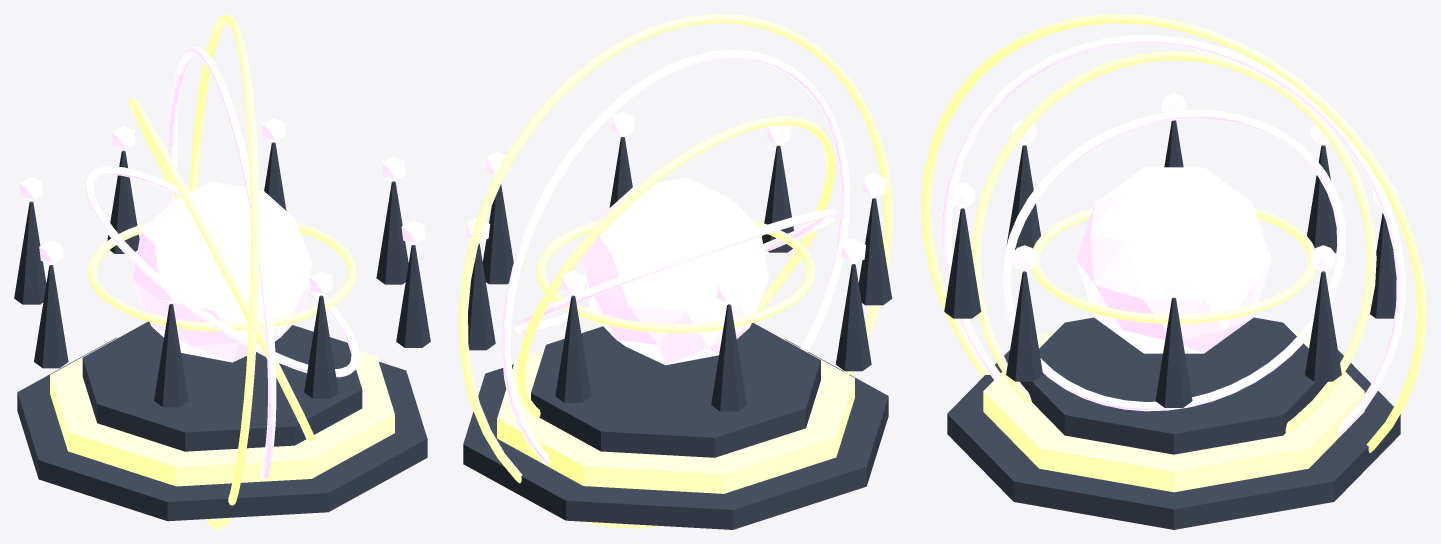
Rendered from gpu-blender-v8.glb.
3 renders of one model, left to right at view 1: azimuth 30°, elevation 25°; view 2: azimuth 150°, elevation 25°; view 3: azimuth 270°, elevation 25°, orthographic. The views are drawn at different scales.
Visible parts, largest first — view 1: Cylinder.002, Cylinder, SovereignCore_cron-rhythm-studio, Cylinder.001, Torus.004, Torus.003, Torus.001, Torus.002, Torus, Cone.005, Cone.004, Cone.006 (+5 smaller); view 2: Cylinder.002, SovereignCore_cron-rhythm-studio, Cylinder, Cylinder.001, Torus.004, Torus.003, Torus.002, Torus.001, Torus, Cone.004, Cone.003, Cone.002 (+5 smaller); view 3: SovereignCore_cron-rhythm-studio, Cylinder.002, Cylinder, Cylinder.001, Torus.004, Torus.003, Torus.002, Torus.001, Torus, Cone.006, Cone.001, Cone.007 (+5 smaller).
Boxes of the visible parts, box(x1,y1,x2,y2) form: Cylinder.002: box(82, 321, 362, 451); Cylinder: box(17, 337, 427, 521); SovereignCore_cron-rhythm-studio: box(133, 181, 311, 362); Cylinder.001: box(50, 329, 394, 486); Torus.004: box(189, 14, 259, 529); Torus.003: box(168, 46, 276, 479); Torus.001: box(85, 166, 359, 377); Torus.002: box(129, 98, 314, 440); Torus: box(88, 222, 356, 331); Cone.005: box(154, 304, 188, 407); Cone.004: box(34, 265, 68, 368); Cone.006: box(304, 295, 338, 398); Cylinder.002: box(531, 323, 820, 457); SovereignCore_cron-rhythm-studio: box(583, 177, 768, 365); Cylinder: box(463, 339, 888, 529); Cylinder.001: box(497, 330, 854, 493); Torus.004: box(459, 14, 892, 528); Torus.003: box(501, 49, 850, 464); Torus.002: box(516, 116, 835, 418); Torus.001: box(514, 209, 837, 333); Torus: box(536, 219, 815, 332); Cone.004: box(835, 264, 871, 371); Cone.003: box(711, 304, 746, 411); Cone.002: box(555, 295, 591, 402); SovereignCore_cron-rhythm-studio: box(1076, 167, 1271, 353); Cylinder.002: box(1020, 317, 1327, 454); Cylinder: box(947, 350, 1400, 529); Cylinder.001: box(983, 331, 1364, 492); Torus.004: box(921, 14, 1426, 452); Torus.003: box(942, 35, 1405, 435); Torus.002: box(972, 50, 1376, 434); Torus.001: box(1001, 109, 1346, 411); Torus: box(1031, 208, 1316, 323); Cone.006: box(944, 208, 981, 318); Cone.001: box(1305, 271, 1341, 381); Cone.007: box(1006, 271, 1042, 381).
Size of the model in its own units: 4.41 by 5.33 by 4.9.
